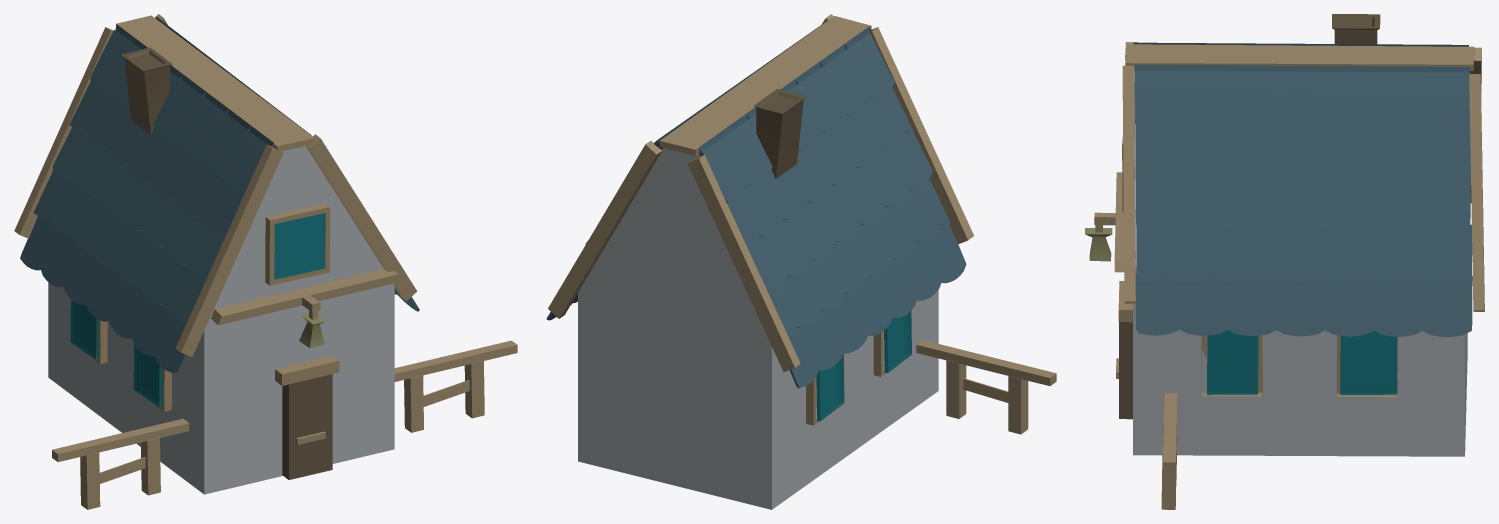
Rendered from Cat_NPC_House_final.fbx.
3 views of the same model, side by side, from view 1: azimuth 30°, elevation 25°; view 2: azimuth 150°, elevation 25°; view 3: azimuth 270°, elevation 25° (orthographic). The views are drawn at different scales.
Parts seen in each view (by area): view 1: pCube28, Roof_tile_left, pCube34, pCube31, pCube37, pCube36, pCube47, pCube44, pCube60, pCube46, pCube40, pCube54 (+11 smaller); view 2: pCube28, Roof_tile_left, pCube34, pCube46, pCube48, pCube44, pCube37, pCube40, pCube30, pCube57, pCube41, pCube42 (+1 smaller); view 3: polySurface361, pCube28, pCube34, pCube59, pCube58, pCube48, pCube47, pCube44, pCube31, pCube65, pCube36, Roof_tile_left (+4 smaller).
Boxes of the visible parts, <box> form: pCube28: <box>48,146,394,494</box>; Roof_tile_left: <box>20,25,273,372</box>; pCube34: <box>115,15,314,151</box>; pCube31: <box>282,374,332,479</box>; pCube37: <box>175,144,283,356</box>; pCube36: <box>211,269,402,325</box>; pCube47: <box>305,134,417,301</box>; pCube44: <box>121,47,172,134</box>; pCube60: <box>274,213,325,279</box>; pCube46: <box>14,27,113,238</box>; pCube40: <box>52,418,189,461</box>; pCube54: <box>265,203,330,285</box>; pCube28: <box>578,148,938,509</box>; Roof_tile_left: <box>699,27,966,388</box>; pCube34: <box>659,16,871,155</box>; pCube46: <box>688,154,800,371</box>; pCube48: <box>548,141,661,318</box>; pCube44: <box>753,89,806,178</box>; pCube37: <box>868,27,973,244</box>; pCube40: <box>916,340,1056,385</box>; pCube30: <box>816,353,844,421</box>; pCube57: <box>884,311,911,372</box>; pCube41: <box>1008,375,1028,434</box>; pCube42: <box>946,360,966,418</box>; polySurface361: <box>1134,64,1472,337</box>; pCube28: <box>1133,69,1467,456</box>; pCube34: <box>1125,44,1474,70</box>; pCube59: <box>1340,331,1397,394</box>; pCube58: <box>1207,330,1258,394</box>; pCube48: <box>1469,74,1484,311</box>; pCube47: <box>1122,65,1135,303</box>; pCube44: <box>1332,14,1380,44</box>; pCube31: <box>1119,322,1132,419</box>; pCube65: <box>1162,393,1177,470</box>; pCube36: <box>1114,172,1124,272</box>; Roof_tile_left: <box>1133,42,1468,46</box>.
Size of the model in its own units: 18.23 by 13.27 by 13.21.
